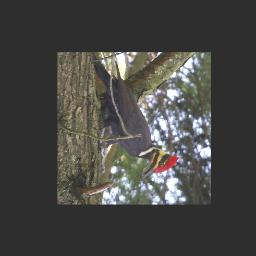Woodpecker: (90, 53, 180, 180)
